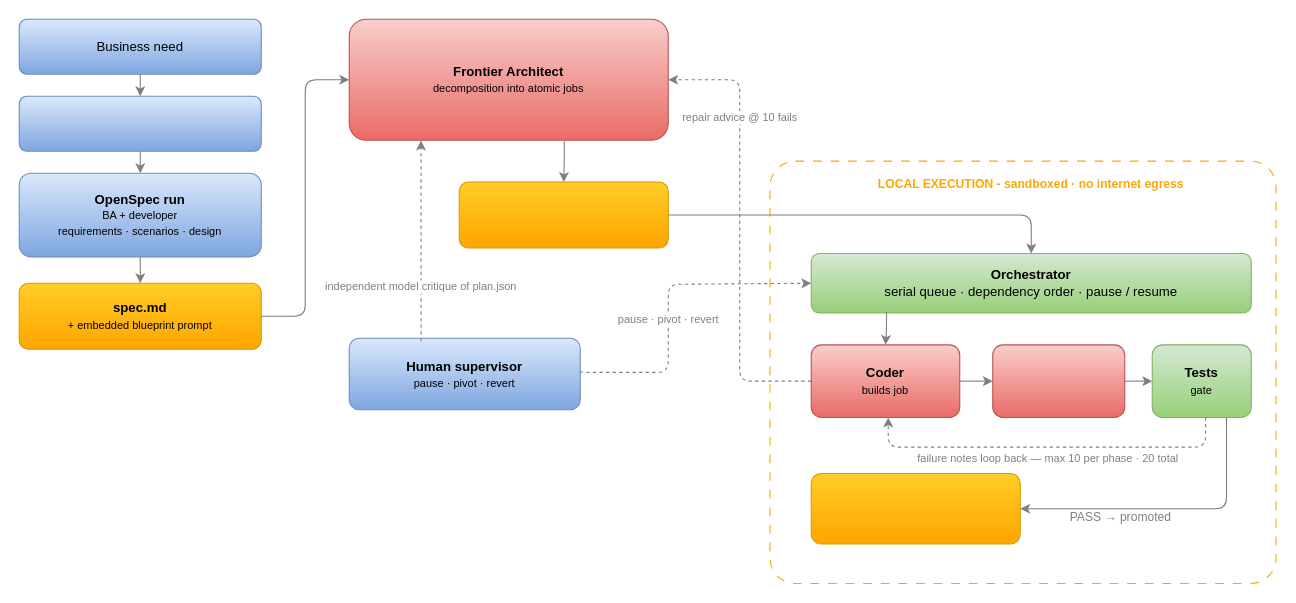
Some shapes in this 1296 by 603 pixel diagram are drawn without their labels. Here are the shapes that lost their labels. From the top down, the centre of each, then its label:
the point at 139,123: Business analysis
the point at 563,214: plan.json validated execution graph (strict DAG)
the point at 1058,380: Reviewer PASS / FAIL
the point at 915,508: main branch every job recorded
